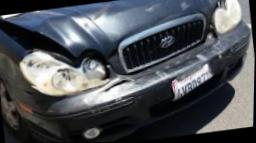Bonnet: (0, 7, 125, 73), (70, 0, 206, 43), (199, 0, 226, 17)
Bumper: (58, 39, 233, 116)
Fender: (0, 46, 57, 117)
